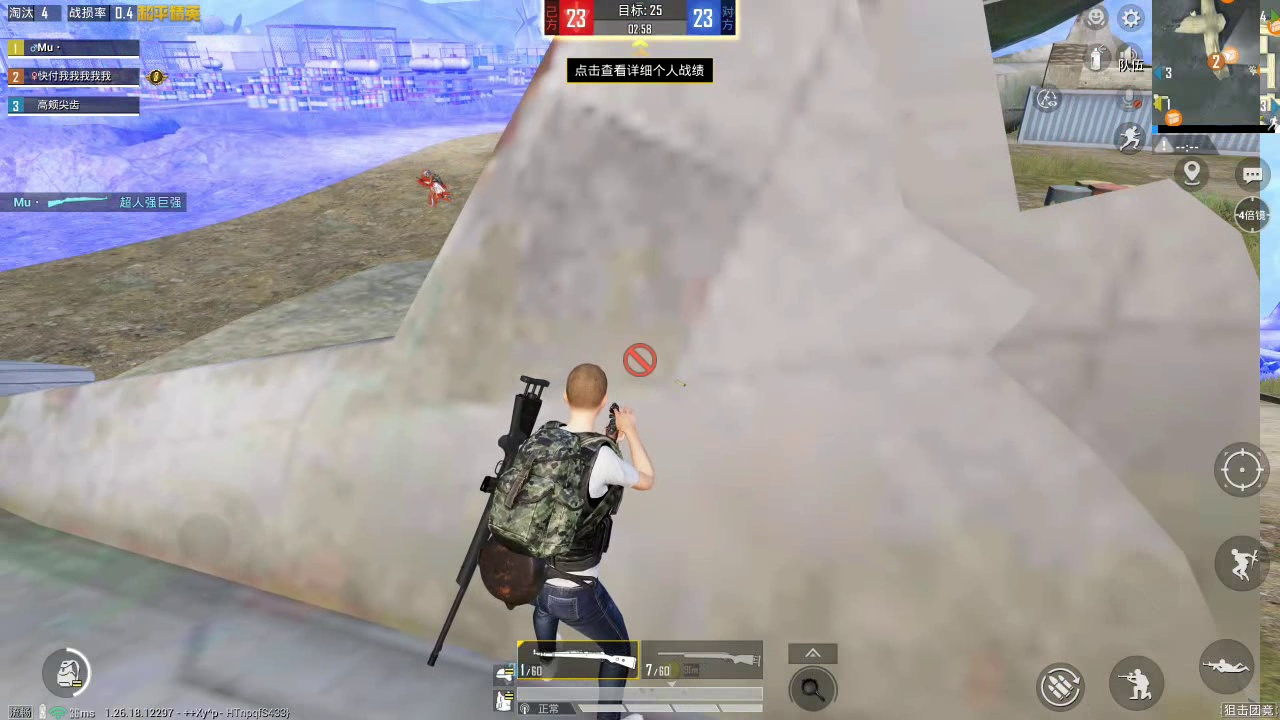enemy: (420, 167, 446, 207)
